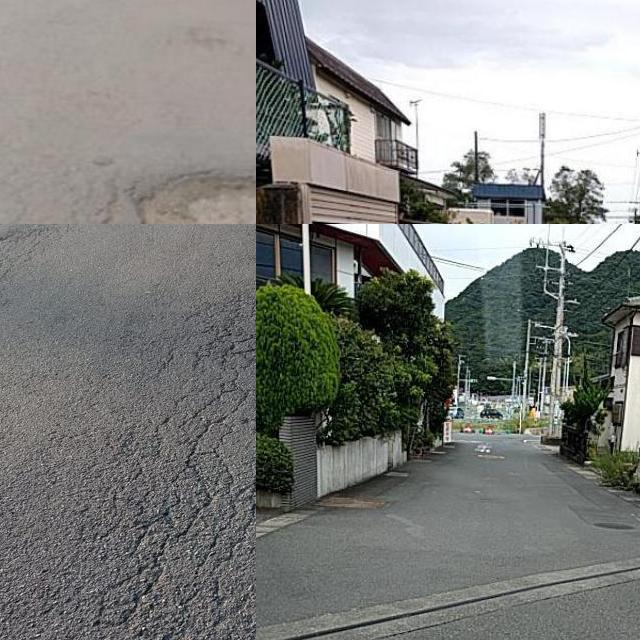Lubang: (144, 161, 256, 224)
Melintang: (256, 553, 640, 640)
Retak Buaya: (89, 292, 256, 640)
